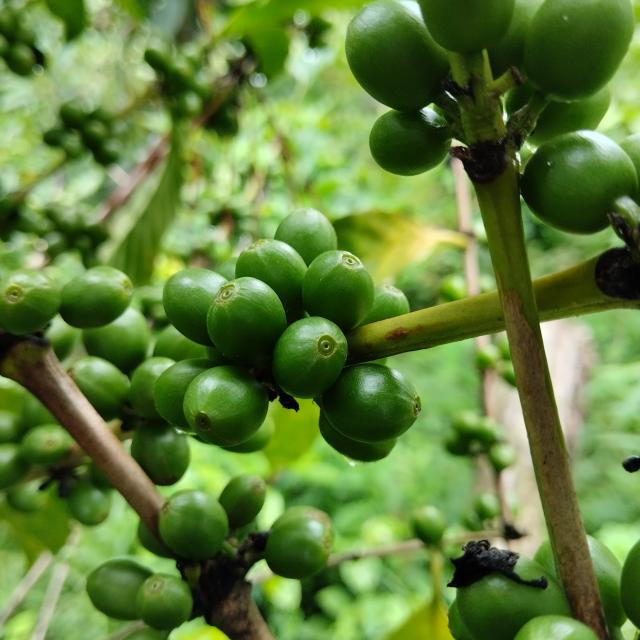green: (521, 130, 639, 234), (346, 0, 451, 110), (525, 0, 635, 100), (322, 364, 421, 444), (206, 277, 287, 364), (183, 366, 269, 447), (272, 317, 348, 399), (302, 250, 375, 331), (235, 239, 307, 321), (370, 106, 452, 175), (264, 507, 334, 580), (162, 269, 228, 346), (158, 490, 228, 562), (419, 0, 515, 52), (530, 85, 612, 145), (153, 358, 219, 429), (58, 266, 132, 329), (82, 307, 150, 374), (489, 0, 545, 77), (319, 409, 397, 463), (66, 356, 130, 421), (85, 560, 151, 622), (0, 269, 60, 335), (130, 422, 190, 486), (274, 207, 338, 265), (136, 575, 192, 632), (128, 357, 175, 420), (219, 475, 266, 530), (358, 285, 410, 327), (153, 325, 208, 361)
